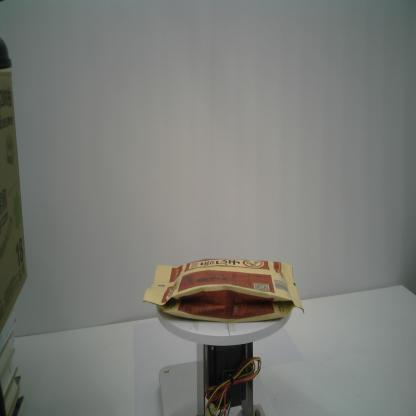Dried Food: (139, 254, 306, 327)
